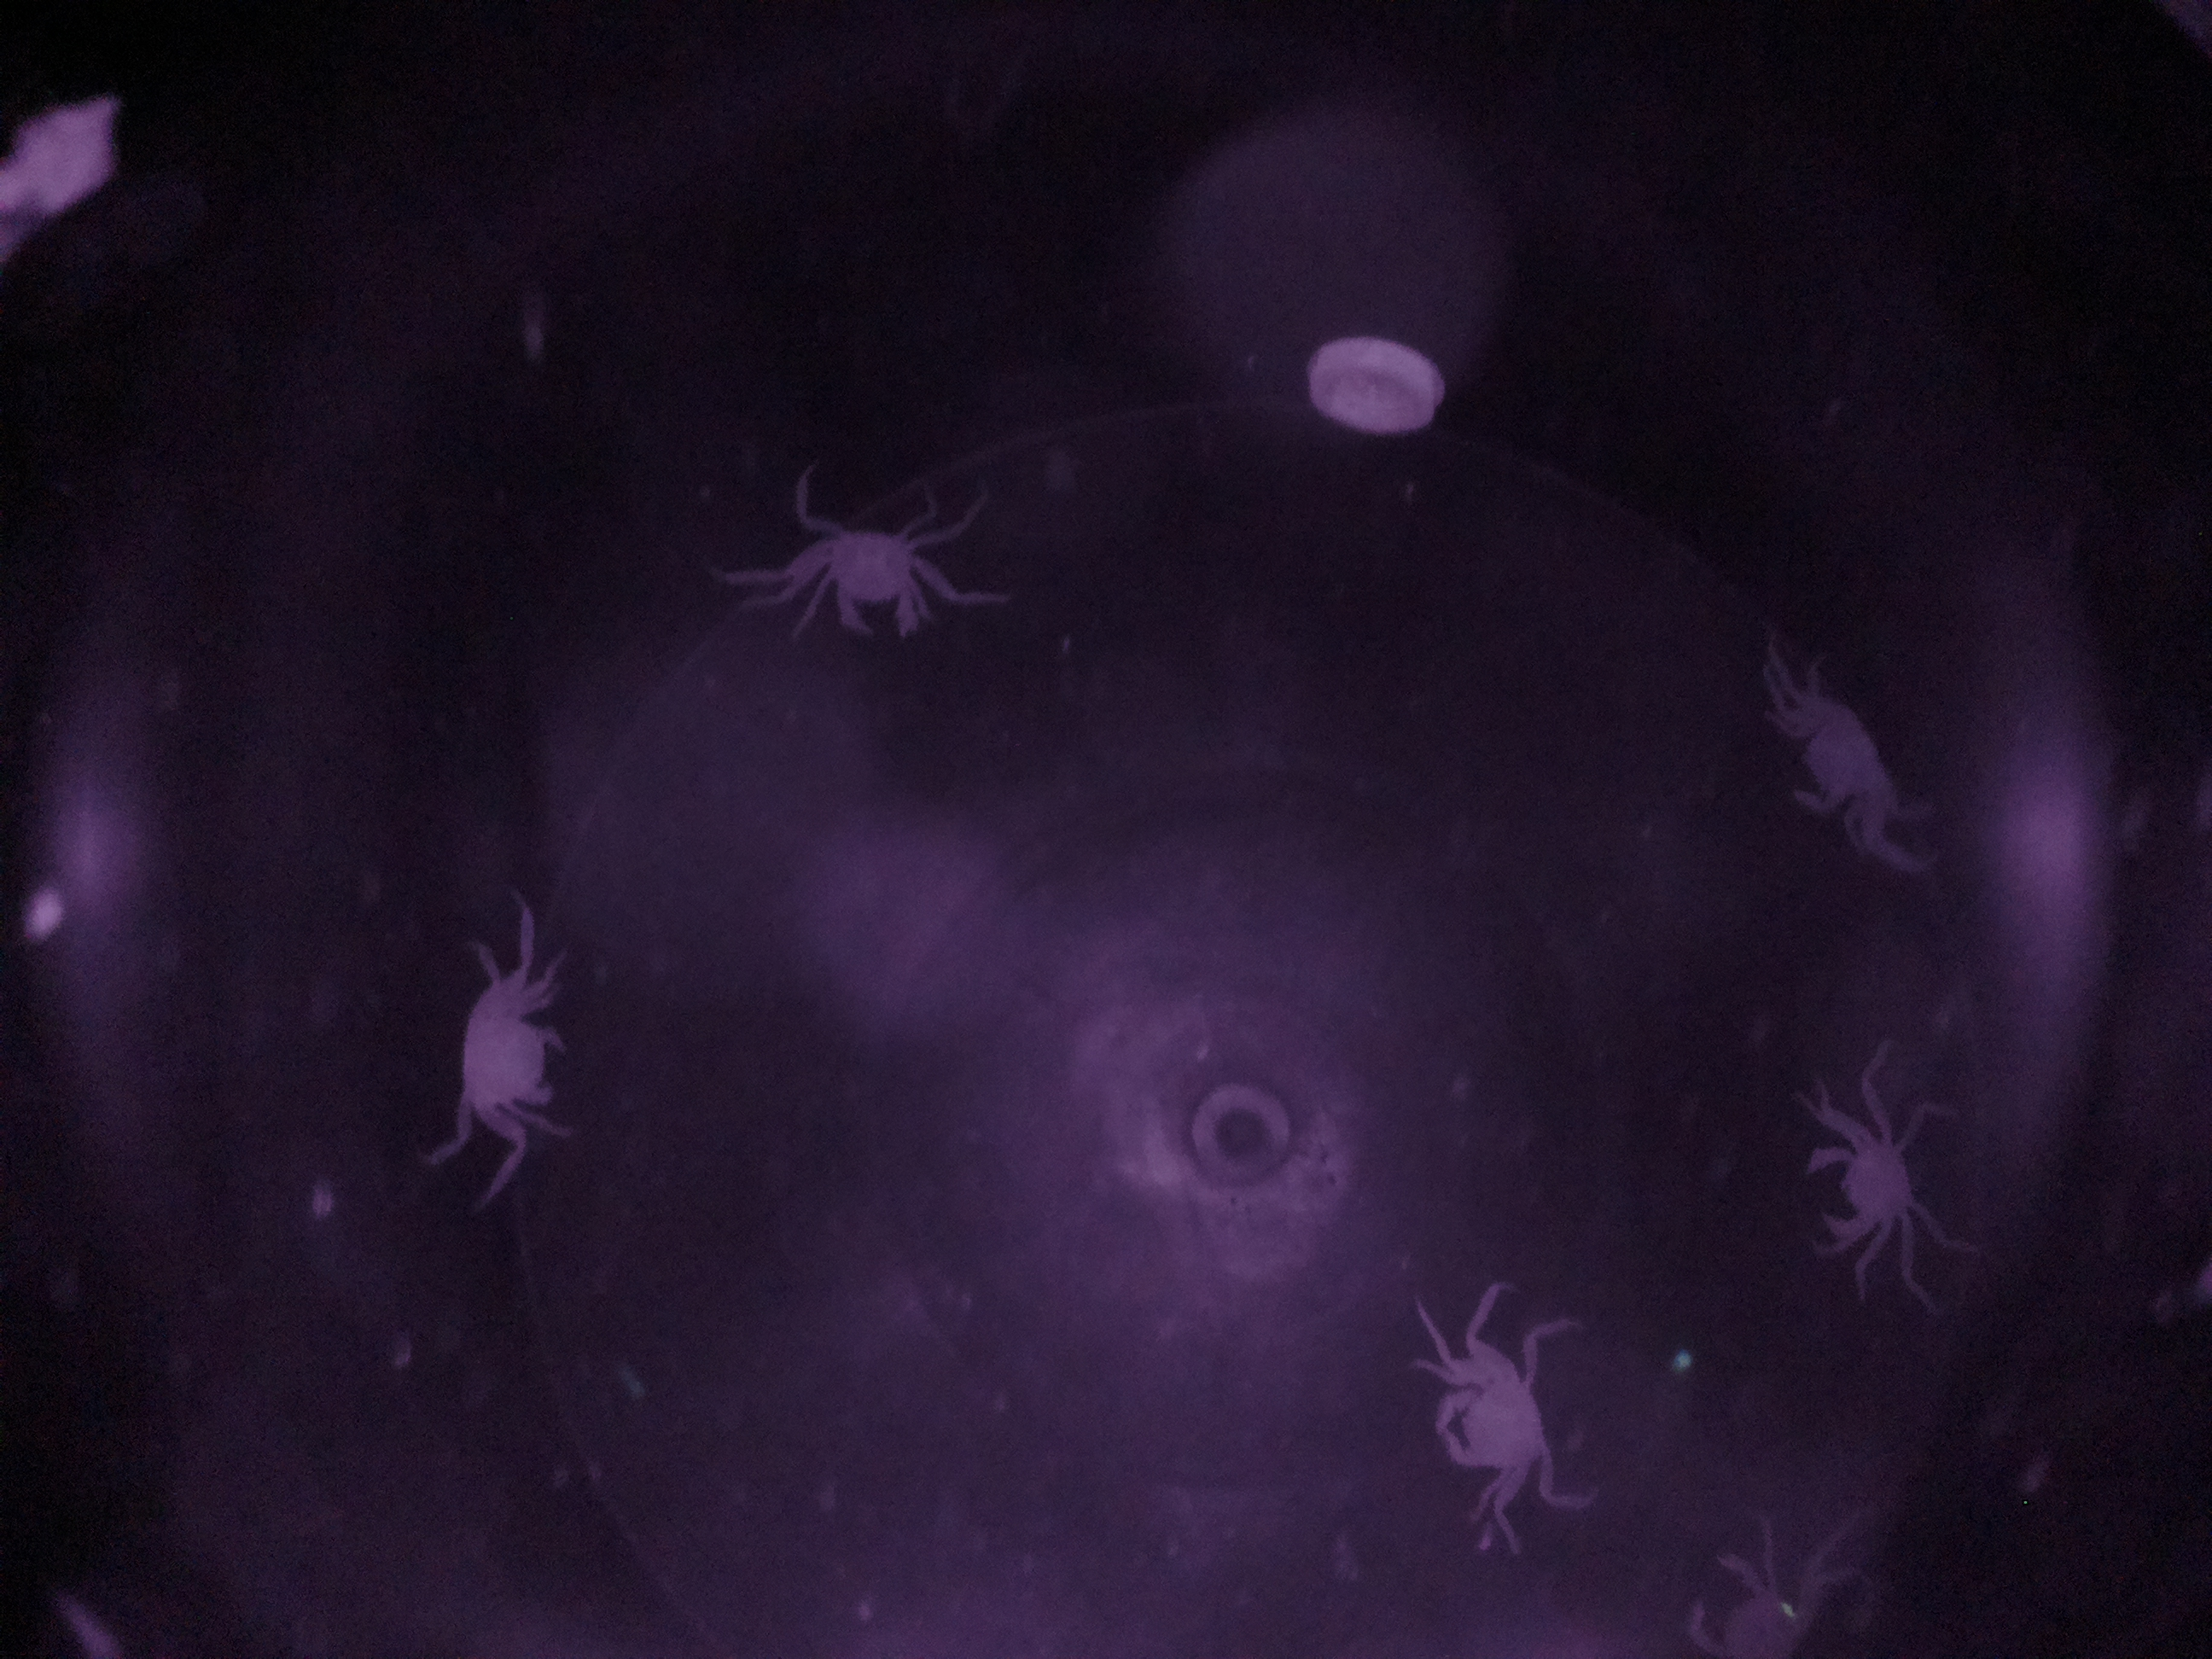Crab: (1416, 1312, 1561, 1527), (1794, 1098, 1951, 1281), (430, 953, 575, 1150), (791, 498, 954, 653)
